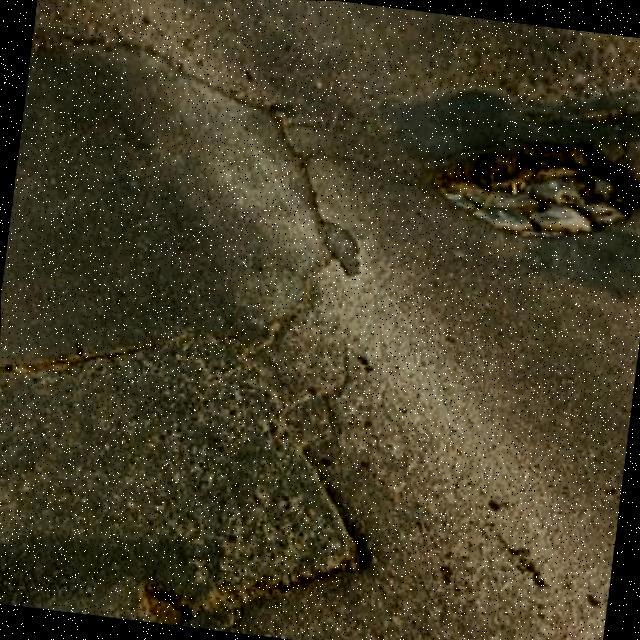Pothole: (434, 145, 640, 236)
